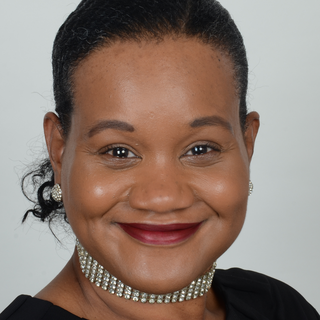eye: (172, 134, 232, 167), (87, 138, 147, 167)
